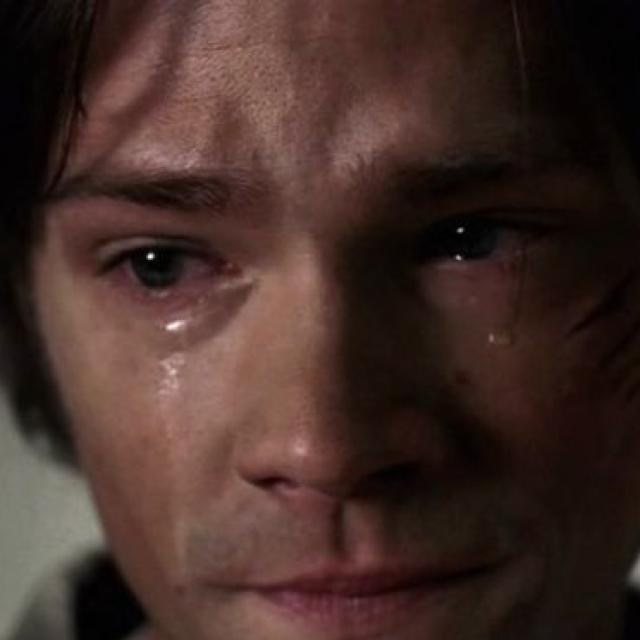Depress: (31, 0, 638, 638)
